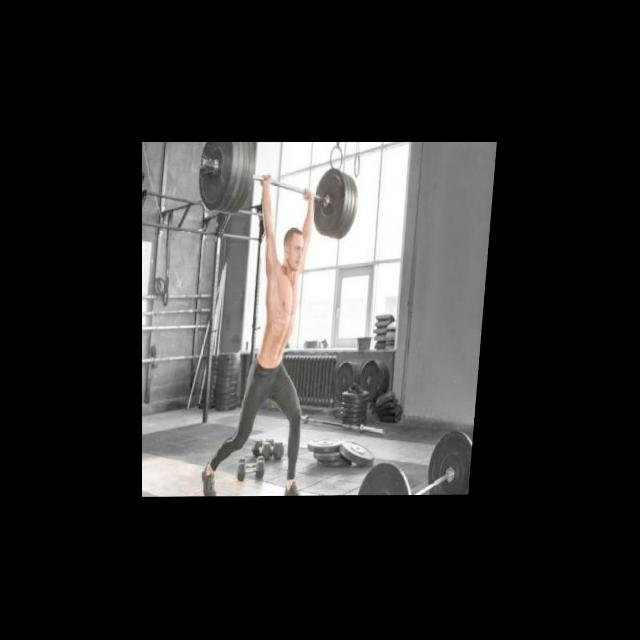barbell: (196, 142, 238, 216)
